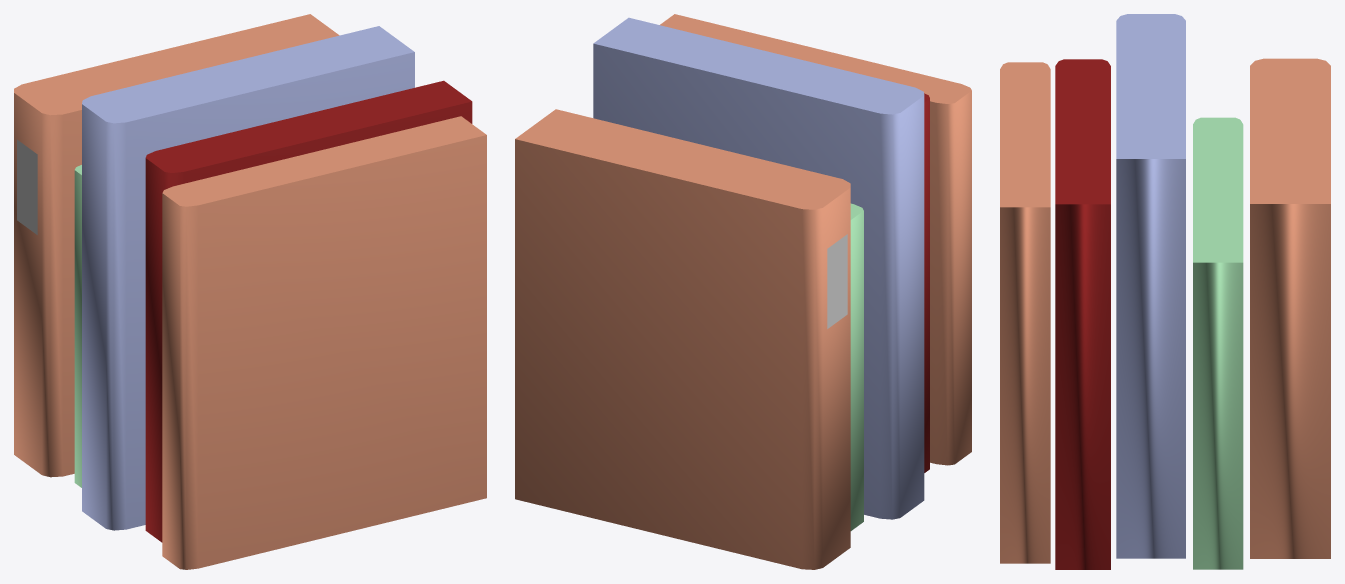
The model's file is books.012.gltf.
The picture shows the model from 3 angles, left to right: view 1: azimuth 30°, elevation 25°; view 2: azimuth 150°, elevation 25°; view 3: azimuth 270°, elevation 25°; orthographic projection.
Visible parts, largest first — view 1: books.012; view 2: books.012; view 3: books.012.
Boxes of the visible parts, <box> form: books.012: <box>14,14,486,569</box>; books.012: <box>515,14,971,569</box>; books.012: <box>1000,14,1330,569</box>.
Size of the model in its own units: 1.03 by 1.22 by 0.9164.
